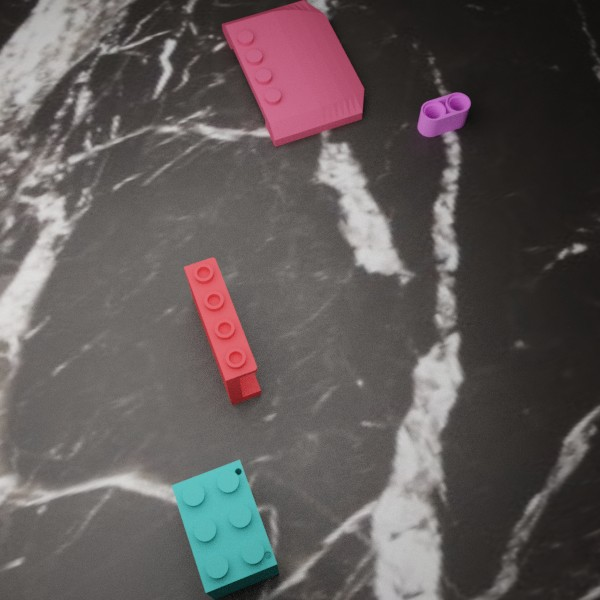lego: (221, 0, 364, 146), (171, 459, 279, 600), (184, 257, 261, 405), (417, 92, 470, 137)
